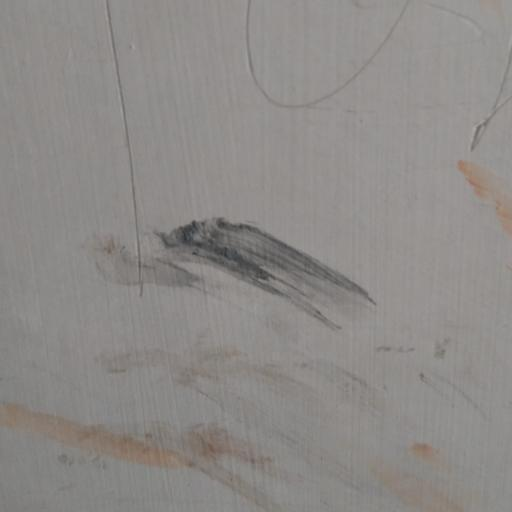stain: (102, 181, 414, 370)
